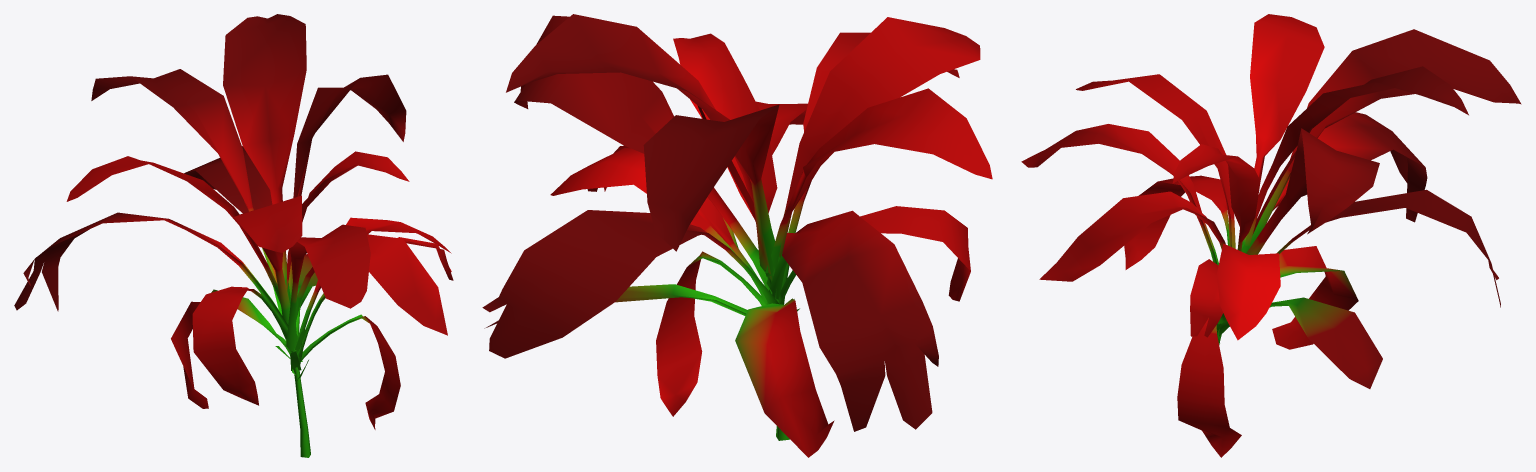
Rendered from Var2_LOD1.fbx.
The picture shows the model from 3 angles, left to right: view 1: azimuth 30°, elevation 25°; view 2: azimuth 150°, elevation 25°; view 3: azimuth 270°, elevation 25°; orthographic projection. The views are drawn at different scales.
Parts seen in each view (by area): view 1: _4f26_Var2_LOD1; view 2: _4f26_Var2_LOD1; view 3: _4f26_Var2_LOD1.
Boxes of the visible parts, box(x1,y1,x2,y2) form: _4f26_Var2_LOD1: box(14, 14, 453, 457); _4f26_Var2_LOD1: box(482, 14, 992, 457); _4f26_Var2_LOD1: box(1021, 14, 1521, 457).
Bounding box in the file's own units: 29.1 × 27.31 × 32.7.
